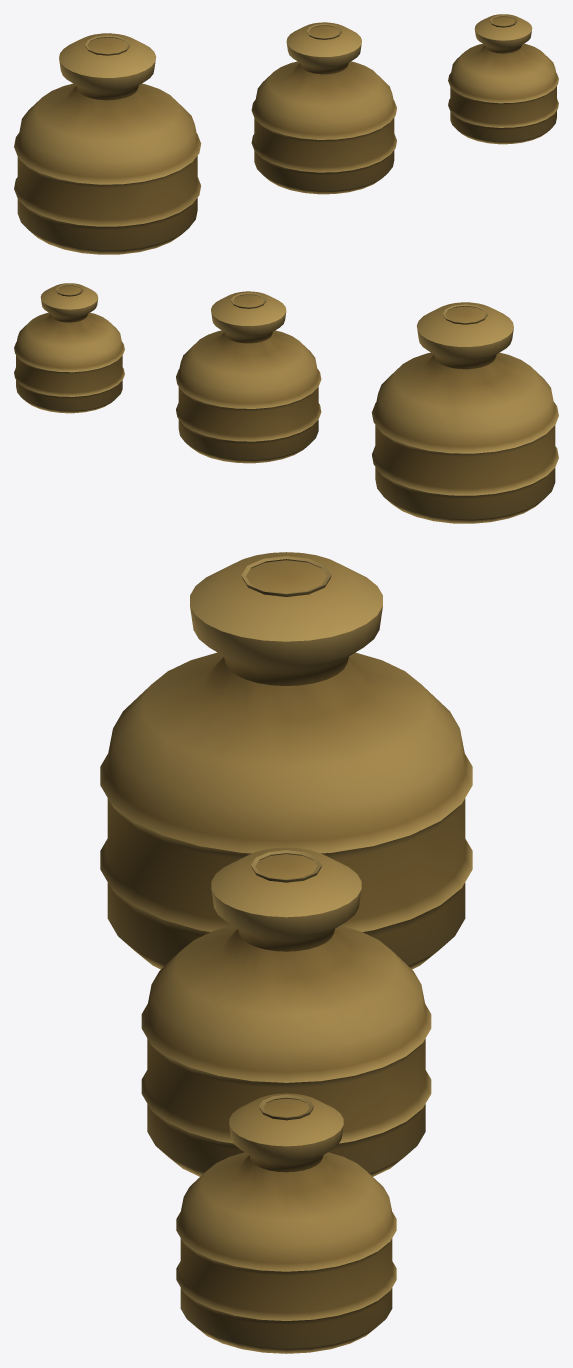
The model's file is weights.89f4ff10.glb.
3 views of the same model, one above another, from view 1: azimuth 30°, elevation 25°; view 2: azimuth 150°, elevation 25°; view 3: azimuth 270°, elevation 25° (orthographic). The views are drawn at different scales.
Parts seen in each view (by area): view 1: weight_l, weight_m, weight_s; view 2: weight_l, weight_m, weight_s; view 3: weight_l, weight_m, weight_s.
Boxes of the visible parts, x1,y1,x2,y2 form: weight_l: [14, 33, 201, 254]; weight_m: [251, 22, 396, 194]; weight_s: [448, 14, 558, 144]; weight_l: [371, 302, 558, 523]; weight_m: [176, 291, 321, 463]; weight_s: [14, 283, 124, 413]; weight_l: [100, 552, 472, 969]; weight_m: [141, 847, 431, 1176]; weight_s: [176, 1093, 396, 1353].
Size of the model in its own units: 0.1817 by 0.0581 by 0.0558.
